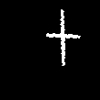single_crochet: (46, 10, 79, 65)
